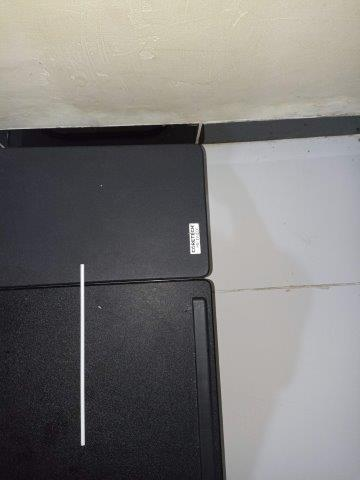sedotan: (80, 264, 85, 445)
